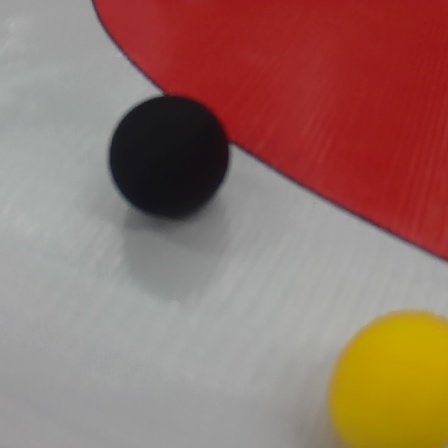black: (107, 89, 230, 220)
red_base: (93, 1, 448, 264)
yellow: (325, 311, 448, 446)
